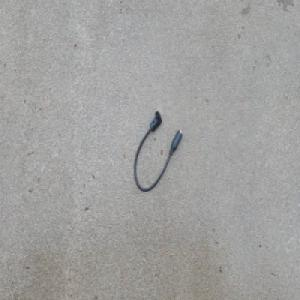Wire: (132, 108, 183, 193)
